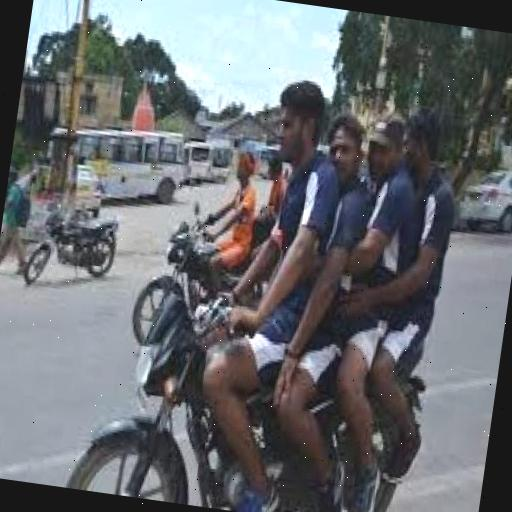no helmet: (231, 76, 354, 218)
triple riding: (59, 34, 480, 512)
